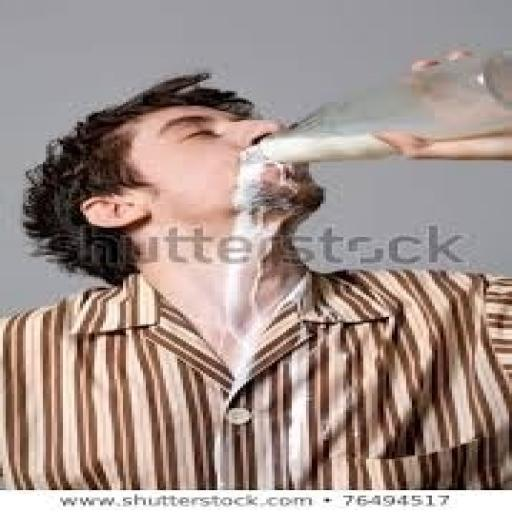drinking: (0, 32, 458, 438)
